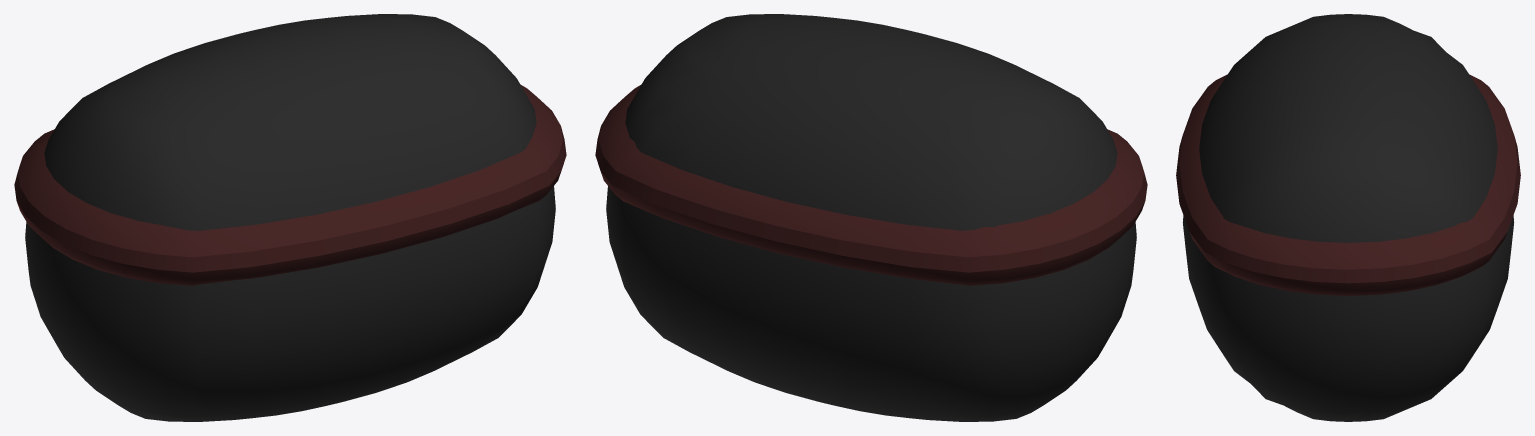
The model's file is ninja_lowertorso.fbx.
The picture shows the model from 3 angles, left to right: view 1: azimuth 30°, elevation 25°; view 2: azimuth 150°, elevation 25°; view 3: azimuth 270°, elevation 25°; orthographic projection. The views are drawn at different scales.
Parts seen in each view (by area): view 1: ninja_lowertorso; view 2: ninja_lowertorso; view 3: ninja_lowertorso.
Part boxes in pixels (x1,y1,x2,y2): ninja_lowertorso: (14, 14, 566, 421); ninja_lowertorso: (595, 14, 1147, 421); ninja_lowertorso: (1176, 14, 1520, 421).
Size of the model in its own units: 48.56 by 32.56 by 32.8.
